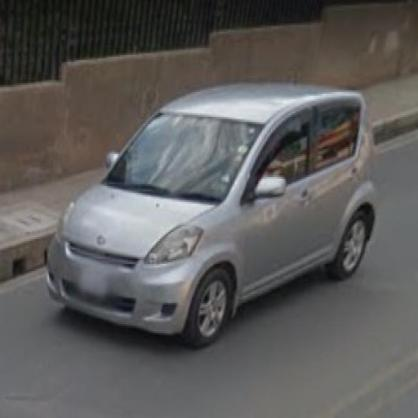car: (47, 81, 381, 354)
